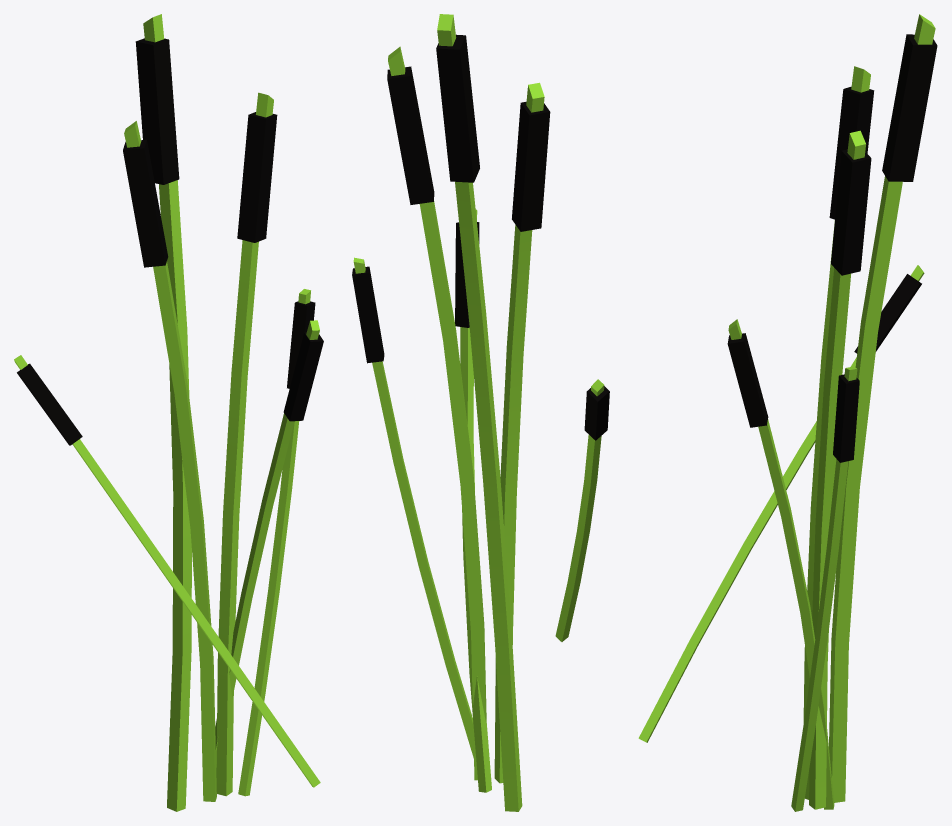
The model's file is Gr-herbes.FBX.
3 renders of one model, left to right at view 1: azimuth 30°, elevation 25°; view 2: azimuth 150°, elevation 25°; view 3: azimuth 270°, elevation 25°, orthographic. The views are drawn at different scales.
Visible parts, largest first — view 1: Box007, Box005, Box011, Box008, Box003, Box013, Box006, Box009, Box012, Box010, Box014, Box004; view 2: Box007, Box005, Box011, Box003, Box008, Box012, Box006, Box009, Box013, Box004, Box010, Box014; view 3: Box007, Box005, Box008, Box003, Box013, Box009, Box006, Box011, Box012, Box010, Box004, Box014.
Boxes of the visible parts, box(x1,y1,x2,y2) form: Box007: box(143, 14, 191, 811); Box005: box(216, 92, 273, 796); Box011: box(124, 121, 216, 801); Box008: box(135, 38, 179, 184); Box003: box(238, 289, 310, 796); Box013: box(14, 355, 320, 787); Box006: box(237, 112, 277, 242); Box009: box(215, 320, 319, 767); Box012: box(123, 139, 168, 267); Box010: box(283, 332, 323, 421); Box014: box(17, 363, 82, 445); Box004: box(287, 301, 315, 388); Box007: box(437, 14, 522, 811); Box005: box(388, 46, 486, 780); Box011: box(494, 82, 544, 783); Box003: box(353, 257, 473, 758); Box008: box(436, 34, 479, 182); Box012: box(512, 101, 550, 231); Box006: box(387, 66, 434, 204); Box009: box(460, 209, 491, 792); Box013: box(555, 379, 604, 641); Box004: box(352, 266, 384, 363); Box010: box(455, 222, 479, 327); Box014: box(584, 386, 609, 440); Box007: box(829, 14, 935, 802); Box005: box(809, 130, 866, 809); Box008: box(882, 34, 937, 181); Box003: box(791, 366, 857, 811); Box013: box(638, 265, 924, 742); Box009: box(728, 319, 834, 809); Box006: box(831, 149, 871, 275); Box011: box(803, 66, 870, 799); Box012: box(829, 86, 874, 219); Box010: box(727, 333, 768, 427); Box004: box(833, 374, 859, 462); Box014: box(854, 274, 921, 353).
Size of the model in its own units: 14.13 by 38.31 by 13.08.
